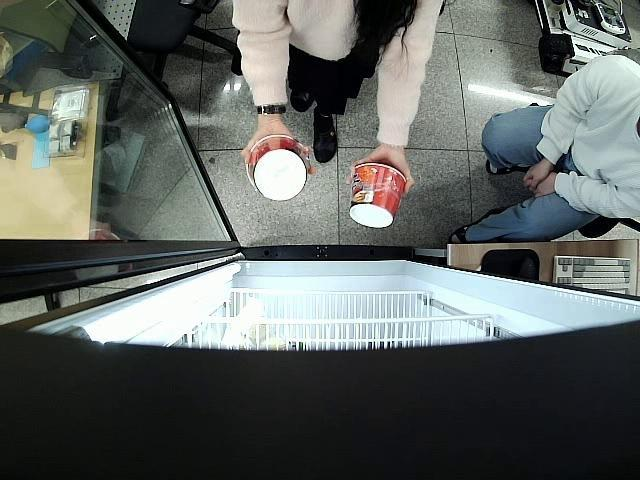01_ShinRamen_L: (244, 133, 306, 200), (348, 163, 407, 228)
